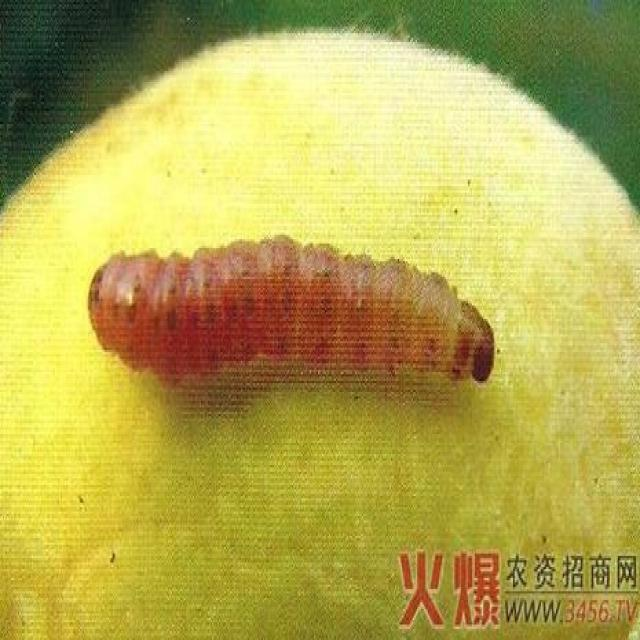peach borer: (89, 234, 498, 411)
